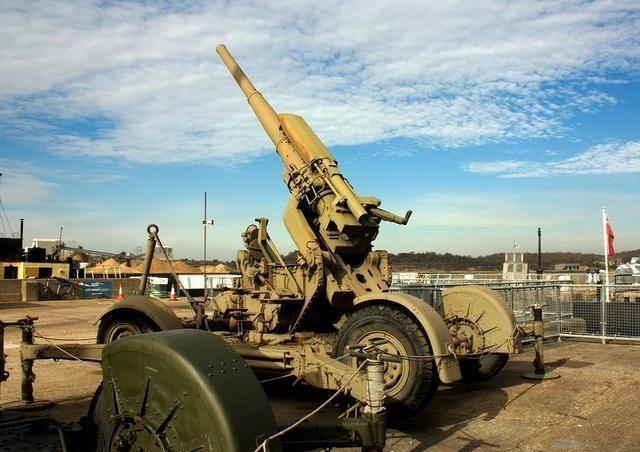MIL_SPG: (194, 45, 520, 412)
